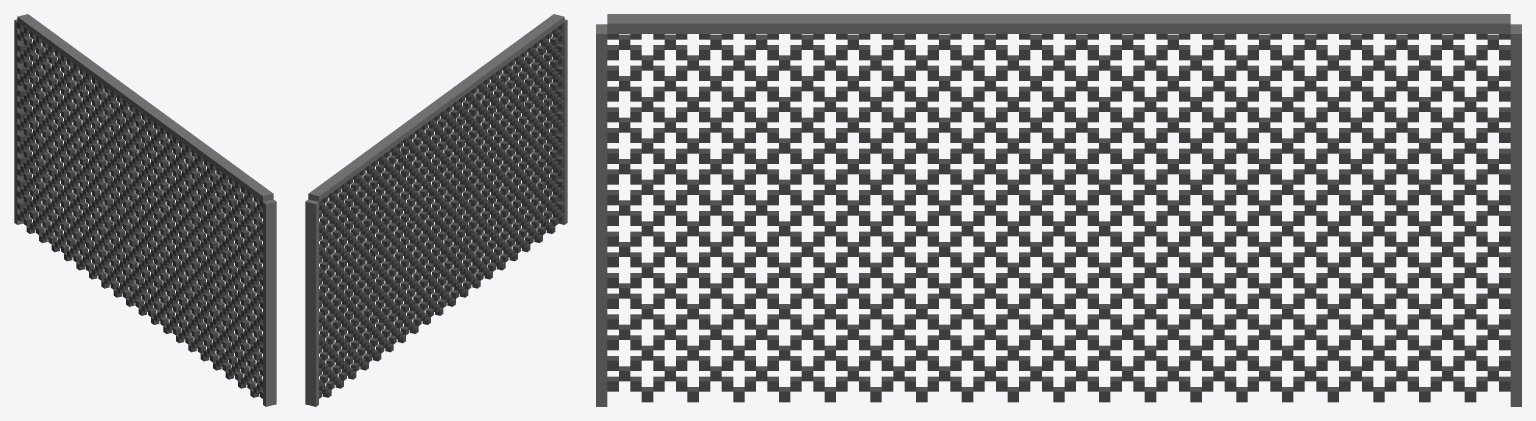
The model's file is bigFence.glb.
3 renders of one model, left to right at view 1: azimuth 30°, elevation 25°; view 2: azimuth 150°, elevation 25°; view 3: azimuth 270°, elevation 25°, orthographic. The views are drawn at different scales.
Visible parts, largest first — view 1: ObjObject; view 2: ObjObject; view 3: ObjObject.
Boxes of the visible parts, x1,y1,x2,y2 form: ObjObject: (14,14,276,406); ObjObject: (305,14,567,406); ObjObject: (596,14,1521,406).
Size of the model in its own units: 0.2 by 3.7 by 8.1.
1 material, 1 textured.
